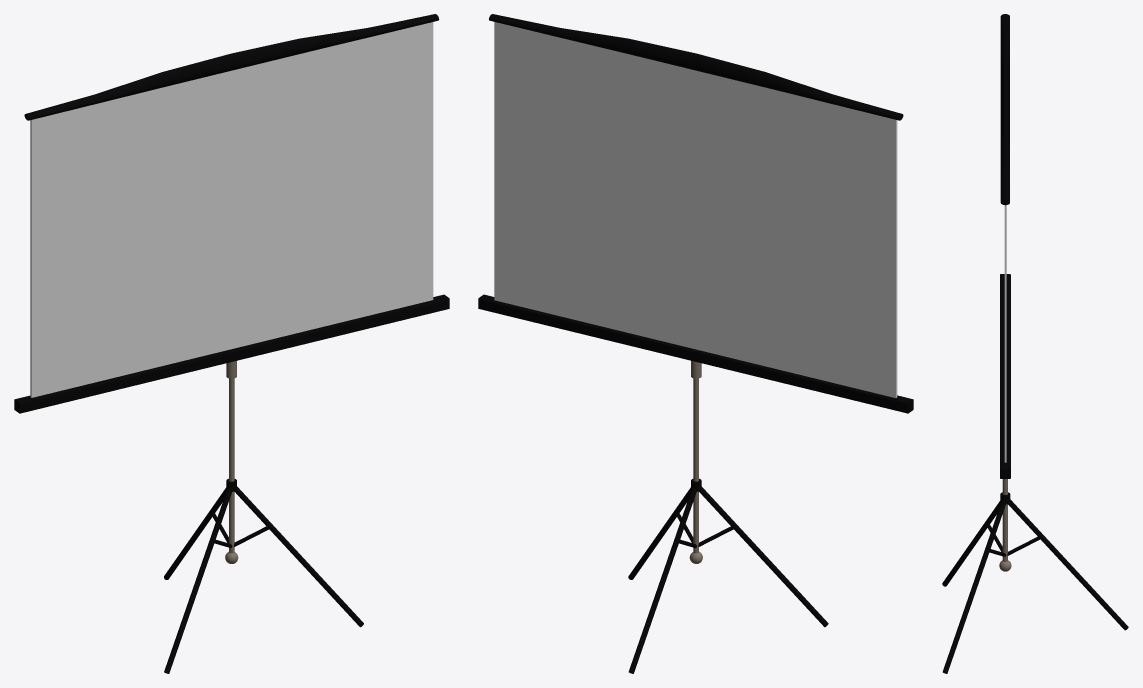
The model's file is triScreen.fbx.
3 views of the same model, side by side, from view 1: azimuth 30°, elevation 25°; view 2: azimuth 150°, elevation 25°; view 3: azimuth 270°, elevation 25° (orthographic). The views are drawn at different scales.
Visible parts, largest first — view 1: pole; view 2: pole; view 3: pole.
Part boxes in pixels (<box>): pole: <box>14,14,449,673</box>; pole: <box>478,14,913,673</box>; pole: <box>942,14,1128,673</box>.
Bounding box in the file's own units: 59.02 × 75.27 × 23.82.
